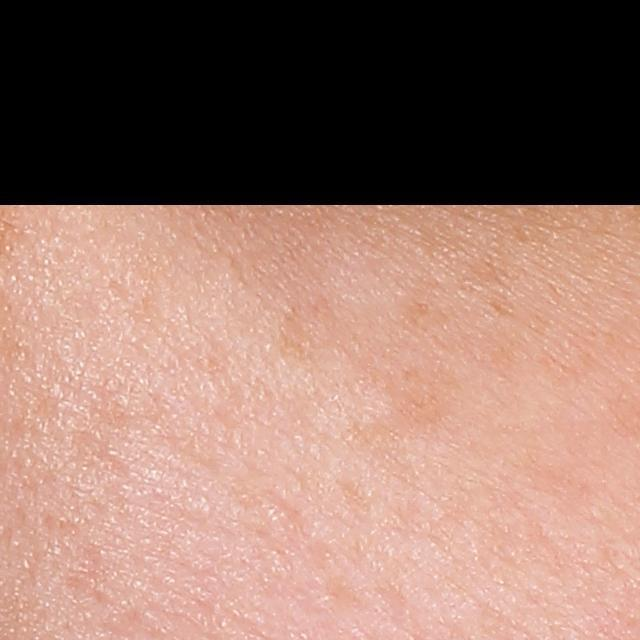melasma: (378, 355, 468, 431)
